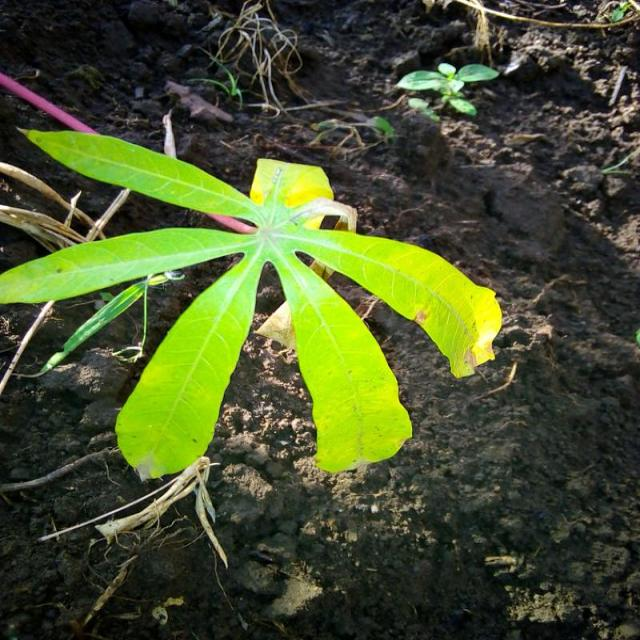cassava leaf: (2, 122, 503, 481)
